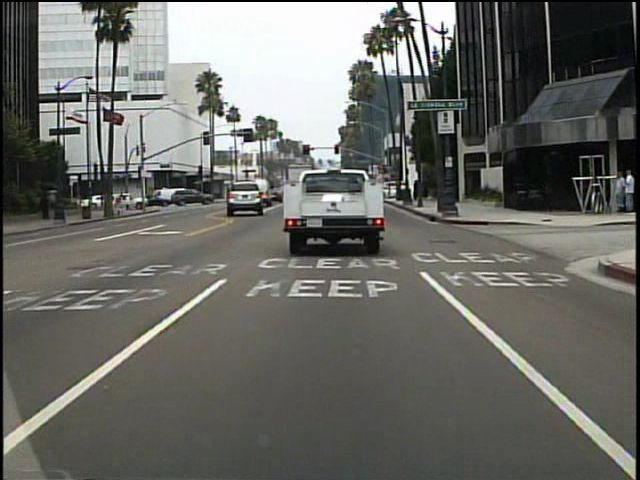person: (611, 170, 625, 215), (623, 168, 635, 215), (125, 190, 135, 213)
